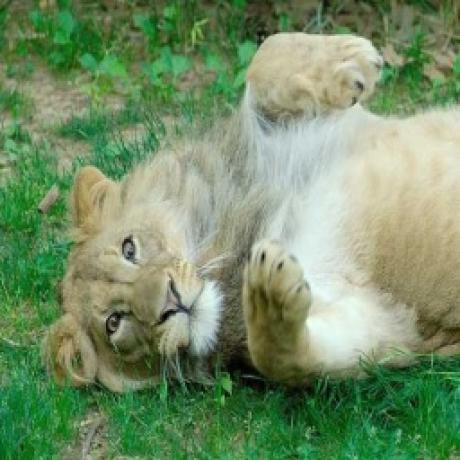Lion: (46, 21, 460, 401)
